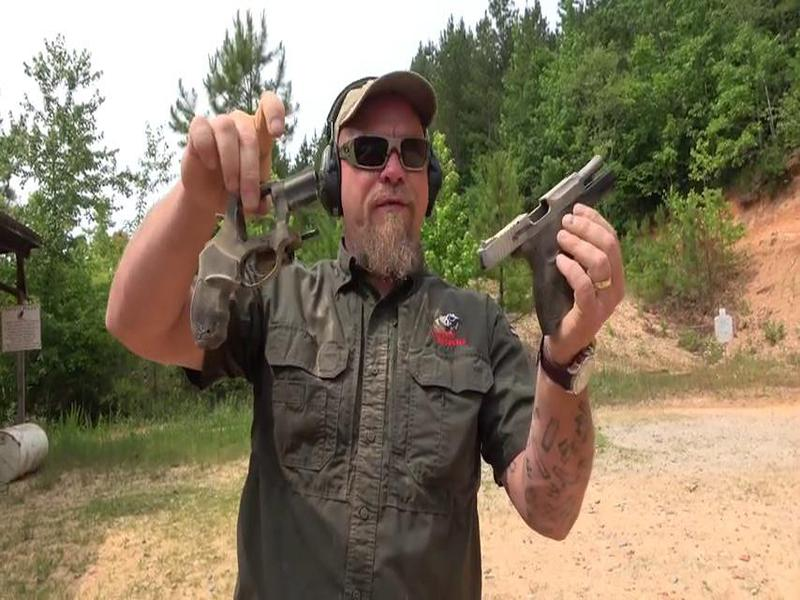Pistola: (466, 153, 637, 340)
Revolver: (161, 155, 334, 364)
